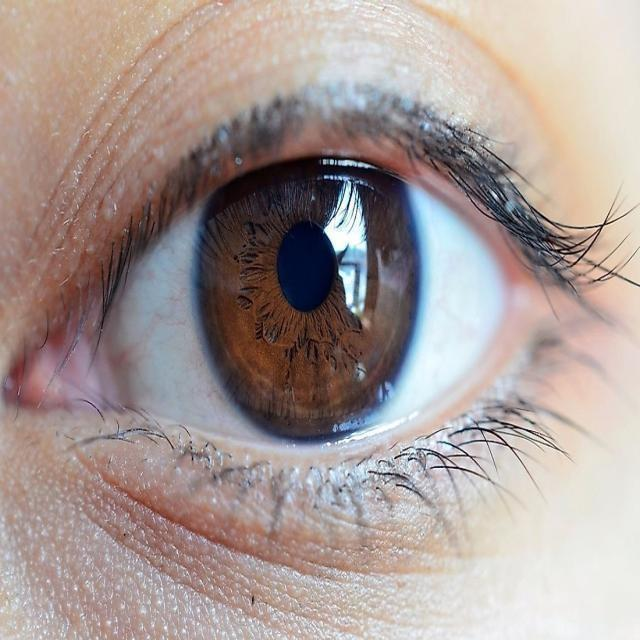Normal: (1, 0, 637, 638)
